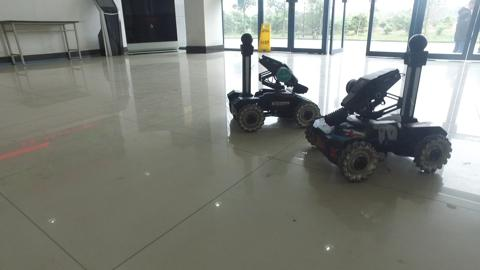chariot: (295, 34, 454, 185), (222, 30, 323, 135)
